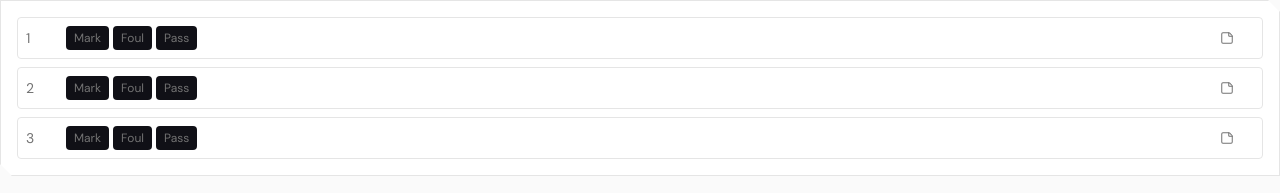
Test: CompetitionThrowsTable — interactions › switching to Foul reveals foulType picker
Step 1. Click the 1st button "Foul" → [132, 38], box [113, 26, 152, 50]
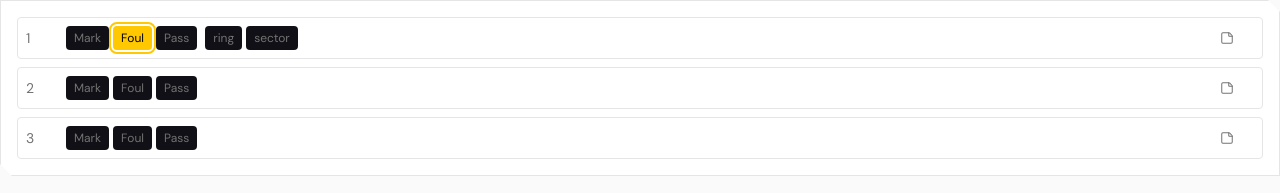
expect the element with test id "foul-type-picker" is shown: met, box [205, 26, 298, 50]
